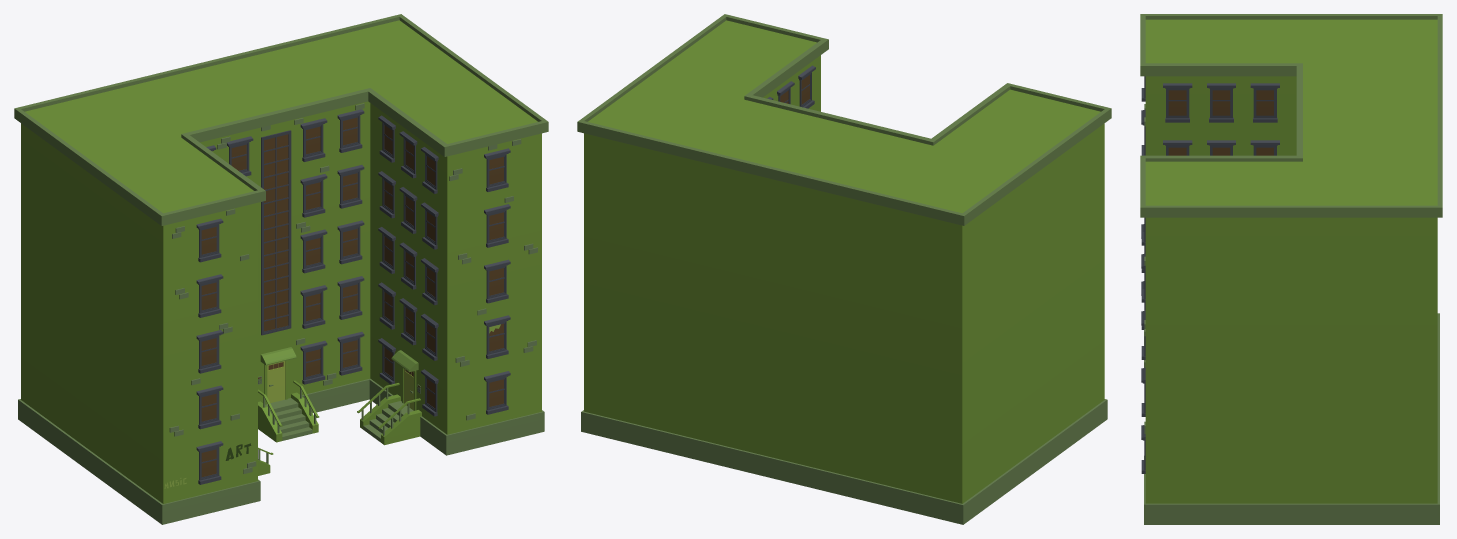
The model's file is OldHouse_04.fbx.
The picture shows the model from 3 angles, left to right: view 1: azimuth 30°, elevation 25°; view 2: azimuth 150°, elevation 25°; view 3: azimuth 270°, elevation 25°; orthographic projection. The views are drawn at different scales.
Visible parts, largest first — view 1: OldHouse_04; view 2: OldHouse_04; view 3: OldHouse_04.
Boxes of the visible parts, bbox=[...] form: OldHouse_04: bbox=[14, 14, 548, 524]; OldHouse_04: bbox=[577, 14, 1111, 524]; OldHouse_04: bbox=[1140, 14, 1442, 524].
Size of the model in its own units: 20.44 by 15.68 by 13.49.
